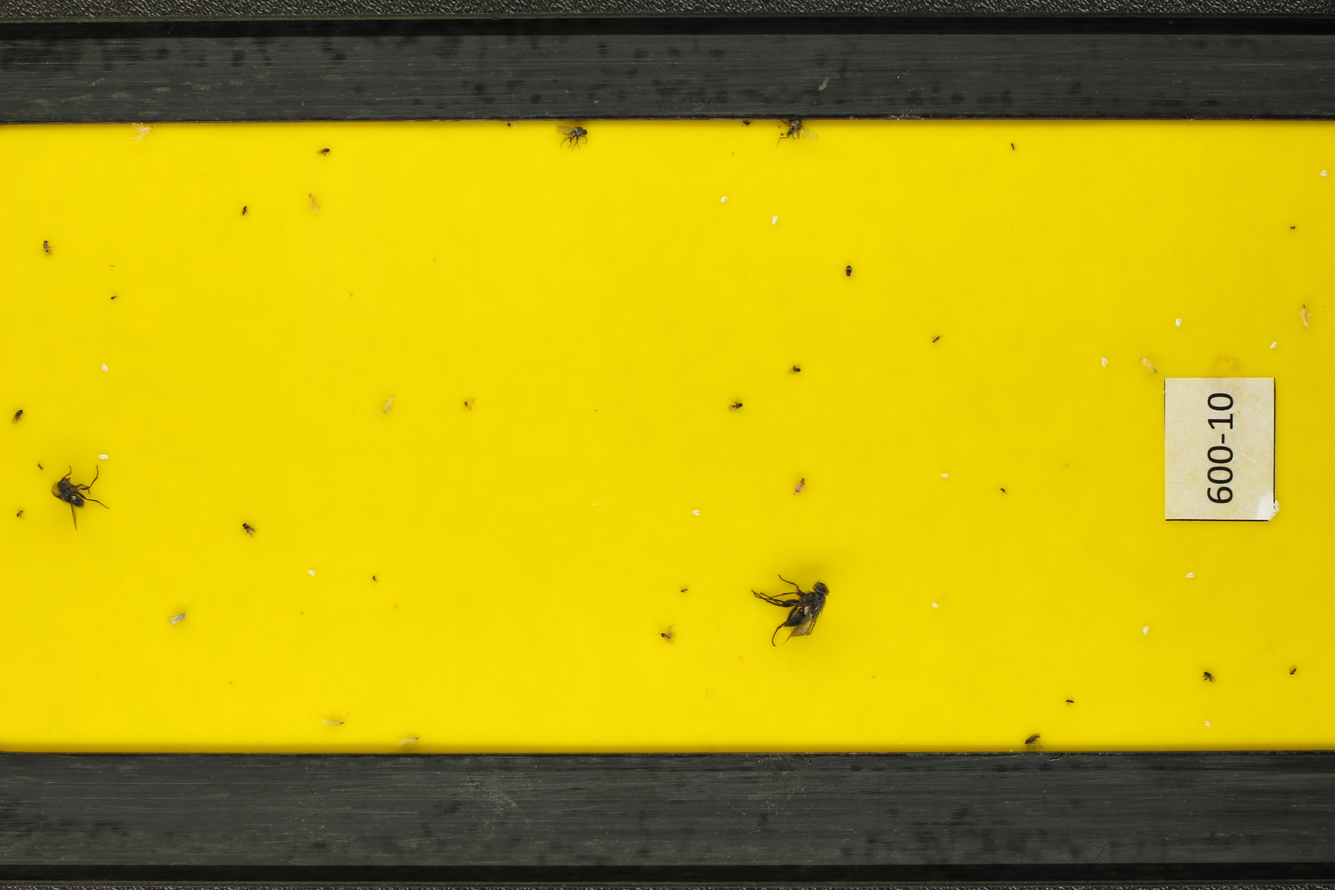MR: (295, 176, 328, 224), (1294, 289, 1321, 336), (372, 391, 405, 425), (1134, 350, 1165, 386), (315, 711, 352, 735)
WF: (1140, 621, 1153, 638), (98, 360, 113, 374), (305, 566, 320, 579), (96, 451, 112, 463), (718, 193, 732, 206), (769, 212, 781, 227), (1099, 354, 1111, 369), (1183, 568, 1198, 580), (1267, 338, 1280, 351), (1318, 166, 1331, 179), (929, 601, 943, 613), (1203, 717, 1217, 729), (1173, 315, 1184, 330), (939, 471, 953, 482), (691, 507, 704, 518)
